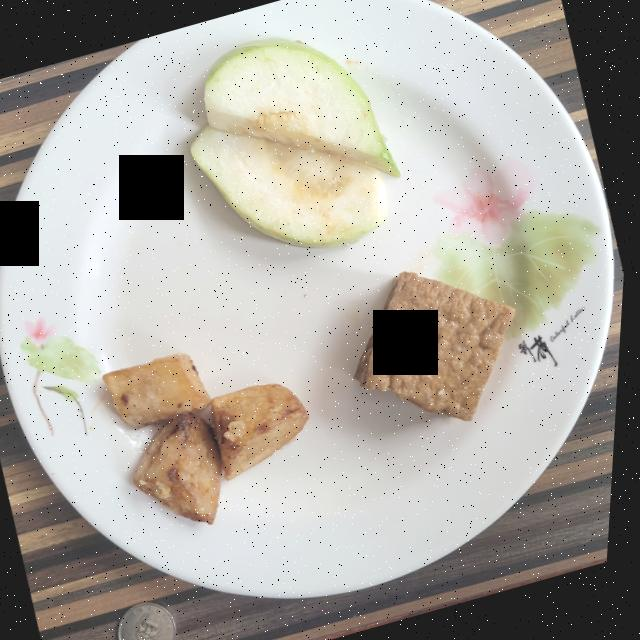coin: (125, 601, 184, 640)
egg tofu: (370, 270, 519, 419)
fried potato: (107, 352, 313, 523)
guava -sliced-: (192, 37, 401, 247)
